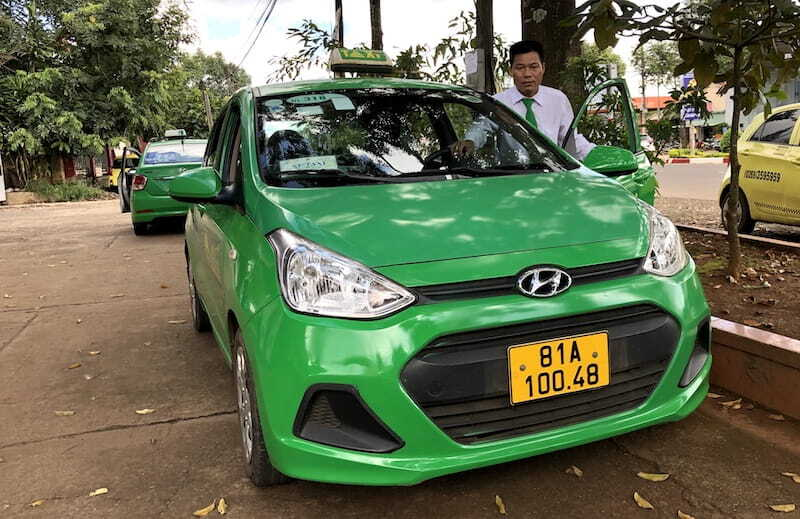number_plate: (506, 341, 611, 394)
